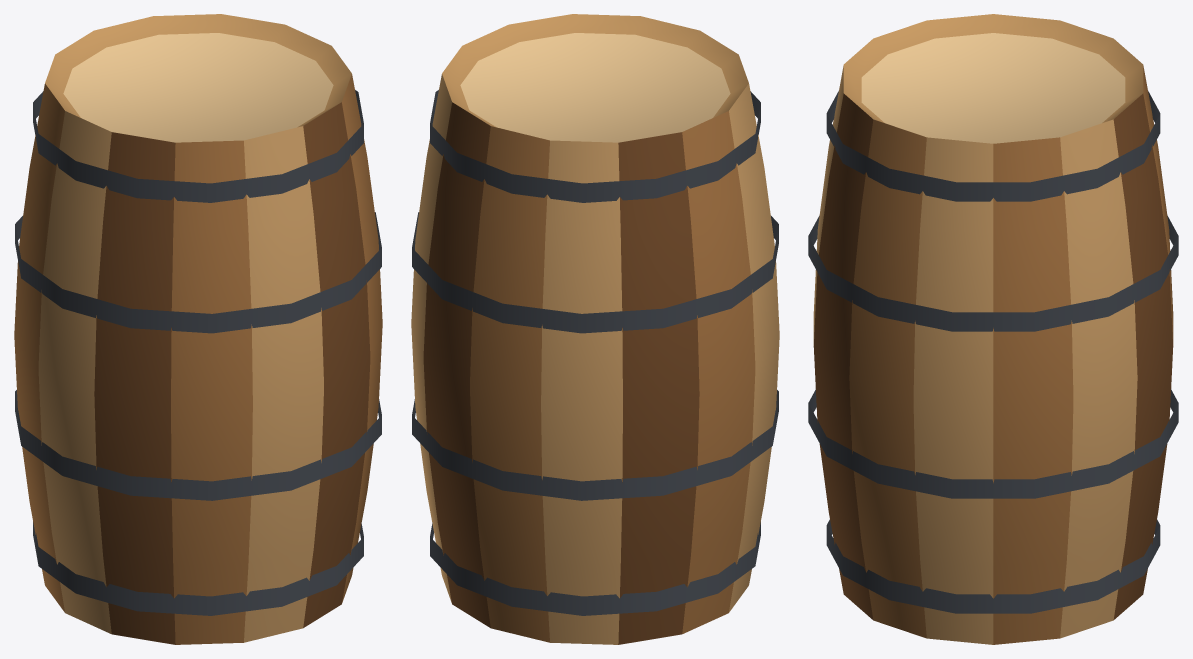
Rendered from SM_Barrel.glb.
3 renders of one model, left to right at view 1: azimuth 30°, elevation 25°; view 2: azimuth 150°, elevation 25°; view 3: azimuth 270°, elevation 25°, orthographic.
Visible parts, largest first — view 1: SM_Barrel; view 2: SM_Barrel; view 3: SM_Barrel.
Part boxes in pixels (x1,y1,x2,y2): SM_Barrel: [14, 14, 382, 644]; SM_Barrel: [411, 14, 779, 644]; SM_Barrel: [808, 14, 1178, 644].
Size of the model in its own units: 0.6 by 0.9 by 0.6026.
Materials: 1 (1 with a texture image).
